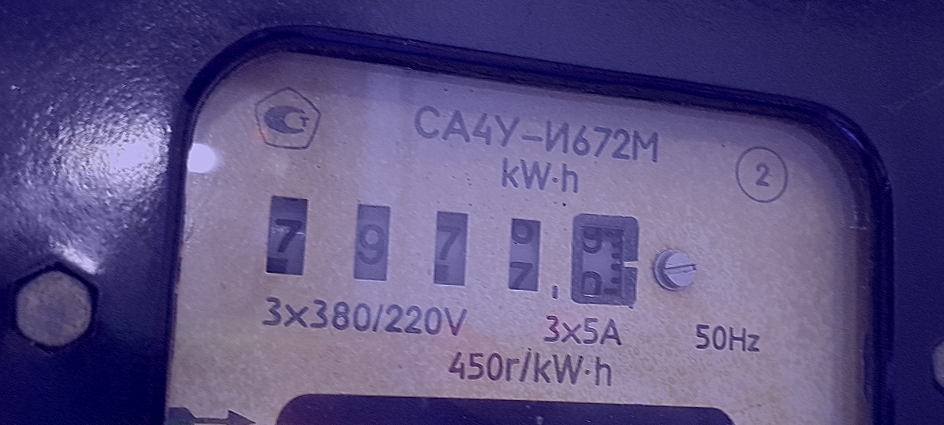0: (578, 267, 602, 297)
7: (268, 213, 303, 259), (505, 252, 536, 294), (434, 221, 463, 263)
9: (354, 220, 386, 268), (578, 223, 609, 256)
screen: (251, 182, 655, 320)
